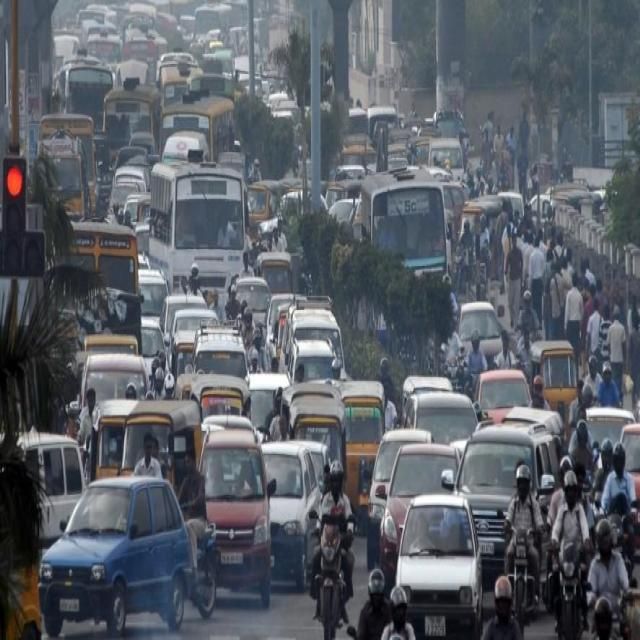Auto: (92, 375, 249, 492), (282, 382, 384, 531), (530, 340, 578, 418)
Bus: (149, 160, 245, 293), (361, 168, 449, 277)
Car: (40, 419, 326, 638), (369, 370, 560, 638), (458, 301, 501, 365)
Truck: (71, 222, 139, 294)
Two Wheeler: (316, 512, 354, 639), (509, 527, 535, 632), (310, 512, 318, 520), (498, 512, 504, 519)
